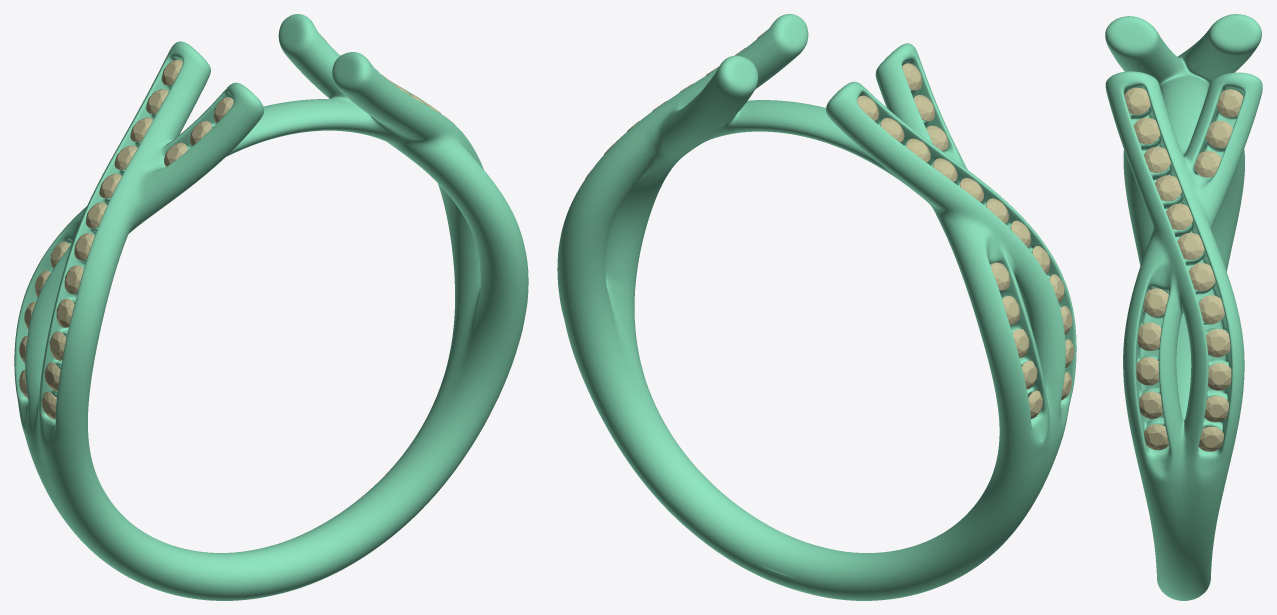
3 views of the same model, side by side, from view 1: azimuth 30°, elevation 25°; view 2: azimuth 150°, elevation 25°; view 3: azimuth 270°, elevation 25° (orthographic).
Visible parts, largest first — view 1: Metal02; view 2: Metal02; view 3: Metal02, Diamond_Gem.032, Diamond_Gem.033, Diamond_Gem.039, Diamond_Gem.024, Diamond_Gem.031, Diamond_Gem.022, Diamond_Gem.034, Diamond_Gem.023, Diamond_Gem.025, Diamond_Gem.038, Diamond_Gem.030 (+9 smaller).
Part boxes in pixels (bbox=[...]): Metal02: bbox=[14, 14, 528, 600]; Metal02: bbox=[557, 14, 1076, 600]; Metal02: bbox=[1105, 14, 1262, 600]; Diamond_Gem.032: bbox=[1198, 295, 1224, 323]; Diamond_Gem.033: bbox=[1206, 329, 1230, 357]; Diamond_Gem.039: bbox=[1216, 89, 1243, 117]; Diamond_Gem.024: bbox=[1143, 288, 1168, 316]; Diamond_Gem.031: bbox=[1188, 263, 1215, 291]; Diamond_Gem.022: bbox=[1137, 322, 1161, 350]; Diamond_Gem.034: bbox=[1208, 362, 1231, 390]; Diamond_Gem.023: bbox=[1136, 357, 1159, 385]; Diamond_Gem.025: bbox=[1124, 87, 1150, 114]; Diamond_Gem.038: bbox=[1206, 120, 1232, 148]; Diamond_Gem.030: bbox=[1177, 232, 1204, 259].
Bounding box in the file's own units: 20.86 × 22.59 × 6.06.
